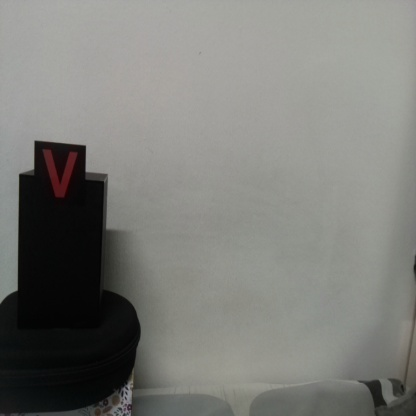id_11: (35, 143, 84, 210)
